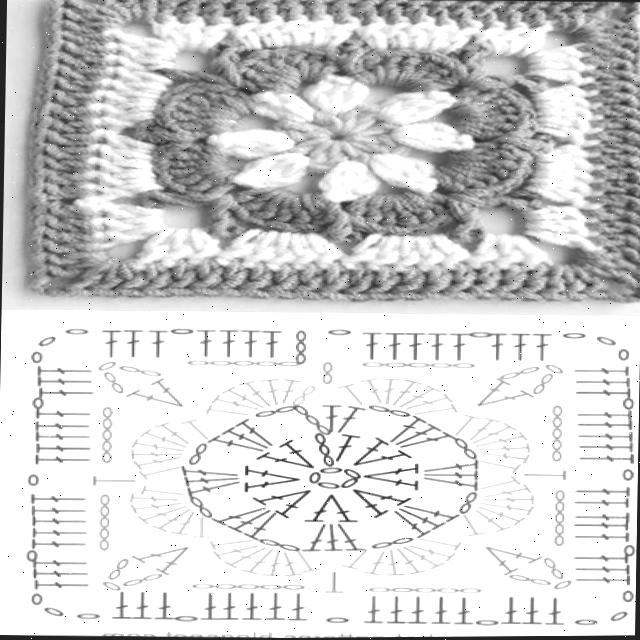ch: (26, 273, 48, 288), (34, 281, 57, 294), (51, 283, 70, 294), (608, 295, 636, 302), (621, 7, 637, 17), (615, 2, 640, 8), (627, 293, 640, 301), (628, 287, 640, 293)
dc: (172, 83, 247, 115), (372, 153, 435, 190), (162, 91, 244, 118), (235, 156, 305, 187), (99, 52, 171, 82), (519, 184, 602, 209), (385, 88, 446, 121), (73, 196, 163, 218), (505, 19, 557, 57), (27, 252, 106, 277), (248, 48, 298, 87), (526, 172, 607, 196), (208, 37, 246, 88), (368, 156, 423, 191), (108, 28, 179, 55), (390, 127, 477, 149), (438, 166, 504, 195), (91, 223, 164, 249), (96, 66, 169, 92), (204, 193, 246, 238), (64, 256, 112, 295), (130, 226, 172, 270), (444, 197, 484, 243), (44, 0, 127, 22), (391, 193, 440, 230), (157, 68, 242, 89), (100, 43, 174, 67), (43, 4, 119, 27), (447, 166, 522, 189), (390, 96, 453, 123), (253, 91, 313, 119), (216, 227, 258, 267), (233, 155, 295, 182), (435, 21, 484, 55), (26, 200, 104, 221), (406, 57, 457, 89), (240, 57, 294, 87), (192, 82, 254, 108), (247, 191, 294, 225), (522, 229, 594, 251), (534, 123, 600, 147), (88, 128, 153, 152), (532, 162, 606, 183), (432, 169, 489, 196), (402, 192, 450, 224), (398, 52, 443, 86), (230, 189, 281, 219), (579, 262, 640, 287), (26, 183, 95, 205), (449, 89, 512, 113), (24, 224, 103, 243), (454, 93, 522, 115), (27, 212, 101, 232), (340, 233, 382, 268), (470, 74, 547, 93), (38, 62, 111, 82), (197, 16, 235, 54), (442, 261, 478, 301), (379, 152, 434, 178), (237, 65, 294, 90), (32, 100, 107, 119), (154, 101, 237, 118), (391, 132, 458, 153), (431, 233, 468, 271), (255, 159, 307, 186), (511, 235, 551, 270), (447, 192, 529, 209), (410, 66, 468, 90), (173, 169, 236, 191), (157, 165, 226, 185), (26, 168, 95, 188), (152, 108, 233, 125), (242, 230, 278, 268), (572, 265, 611, 300), (212, 258, 247, 297), (136, 120, 198, 142), (137, 190, 222, 206), (522, 206, 601, 223), (28, 128, 107, 145), (305, 232, 342, 268), (24, 249, 107, 265), (237, 260, 271, 299), (27, 140, 93, 160), (89, 256, 122, 296), (114, 255, 146, 296), (581, 244, 640, 266), (28, 116, 100, 134), (187, 228, 222, 265), (521, 219, 597, 236), (86, 102, 154, 121), (321, 209, 361, 241), (319, 260, 351, 300), (577, 43, 640, 63), (37, 74, 103, 93), (570, 16, 636, 35), (269, 47, 301, 86), (267, 119, 336, 137), (536, 115, 605, 133), (27, 154, 96, 172), (97, 78, 159, 98), (364, 264, 399, 299), (338, 38, 374, 72), (91, 90, 152, 110), (579, 256, 640, 276), (289, 193, 321, 231), (160, 228, 192, 266), (189, 258, 221, 296), (449, 163, 530, 178), (318, 161, 349, 200), (537, 153, 604, 171), (273, 90, 316, 118), (491, 135, 554, 154), (525, 42, 582, 63), (150, 15, 185, 49), (492, 264, 527, 298), (254, 100, 308, 122), (389, 48, 420, 86), (413, 233, 444, 271), (457, 43, 485, 85), (24, 237, 93, 254), (524, 70, 597, 86), (449, 158, 532, 172), (347, 159, 376, 199), (266, 193, 297, 230), (493, 232, 524, 269), (583, 233, 640, 253), (338, 81, 371, 115), (468, 263, 500, 298), (323, 16, 359, 47), (232, 15, 262, 52), (40, 52, 114, 67), (166, 259, 196, 296), (457, 104, 536, 118), (389, 195, 418, 233), (517, 262, 546, 300), (579, 68, 640, 86), (579, 207, 640, 225), (368, 193, 396, 232), (537, 104, 601, 121), (496, 22, 528, 56), (393, 265, 425, 299), (324, 73, 351, 113), (266, 231, 293, 271), (494, 0, 530, 30), (580, 141, 640, 159), (586, 194, 640, 214), (295, 261, 324, 298), (42, 39, 109, 55), (209, 137, 291, 150), (82, 168, 153, 183), (531, 85, 597, 101), (299, 193, 333, 224), (578, 55, 640, 72), (142, 261, 173, 295), (266, 263, 296, 298), (585, 129, 640, 148), (355, 194, 383, 231), (377, 93, 418, 118), (35, 89, 99, 105), (564, 1, 597, 32), (460, 126, 533, 140), (559, 265, 588, 300), (581, 79, 640, 96), (538, 263, 565, 300), (346, 193, 377, 225), (300, 13, 330, 46), (45, 18, 111, 33), (220, 145, 296, 158), (288, 232, 314, 270), (582, 221, 640, 238), (344, 265, 372, 300), (177, 15, 204, 51), (586, 154, 640, 172), (332, 158, 354, 202), (305, 74, 331, 111), (152, 162, 226, 175), (521, 0, 553, 30), (423, 264, 450, 299), (343, 121, 395, 139), (154, 118, 226, 131), (344, 105, 374, 136), (429, 18, 457, 51), (336, 102, 363, 136), (448, 148, 531, 159), (81, 178, 157, 190), (377, 50, 403, 85), (392, 235, 418, 270), (96, 185, 161, 199), (41, 26, 106, 40), (82, 156, 151, 169), (280, 14, 307, 47), (448, 0, 481, 27), (393, 121, 461, 134), (470, 233, 495, 268), (206, 130, 285, 141), (284, 48, 311, 80), (592, 166, 640, 184), (231, 186, 272, 207), (457, 112, 535, 123), (167, 123, 228, 137), (157, 143, 228, 155), (593, 180, 640, 198), (312, 46, 336, 81), (410, 15, 434, 50), (584, 92, 640, 107), (343, 139, 407, 152), (256, 14, 282, 46), (87, 144, 151, 157), (92, 217, 161, 229), (528, 58, 597, 70), (592, 105, 640, 122), (533, 97, 600, 109), (362, 17, 387, 49), (590, 117, 640, 133), (153, 156, 225, 167), (81, 116, 137, 130), (475, 0, 502, 29), (175, 0, 209, 23), (301, 46, 323, 81), (310, 139, 333, 172), (276, 127, 330, 141), (450, 142, 513, 154), (547, 1, 574, 29), (474, 25, 500, 54), (98, 0, 135, 20), (43, 32, 99, 45), (361, 52, 384, 83), (581, 36, 640, 48), (389, 16, 411, 48), (430, 0, 458, 25), (326, 0, 356, 23), (552, 144, 605, 157), (346, 134, 403, 146), (314, 110, 341, 135), (201, 0, 229, 24), (202, 173, 235, 193), (353, 0, 378, 26), (581, 28, 640, 39), (403, 0, 432, 22), (169, 125, 221, 137), (380, 0, 406, 24), (337, 139, 364, 162), (155, 0, 184, 21), (461, 122, 537, 130), (325, 139, 345, 169), (227, 0, 253, 23), (251, 0, 278, 21), (312, 192, 337, 214), (354, 58, 375, 84), (155, 150, 223, 158), (288, 139, 326, 153), (303, 0, 329, 20), (347, 66, 372, 86), (279, 0, 303, 20), (123, 0, 143, 21), (140, 0, 159, 21)
